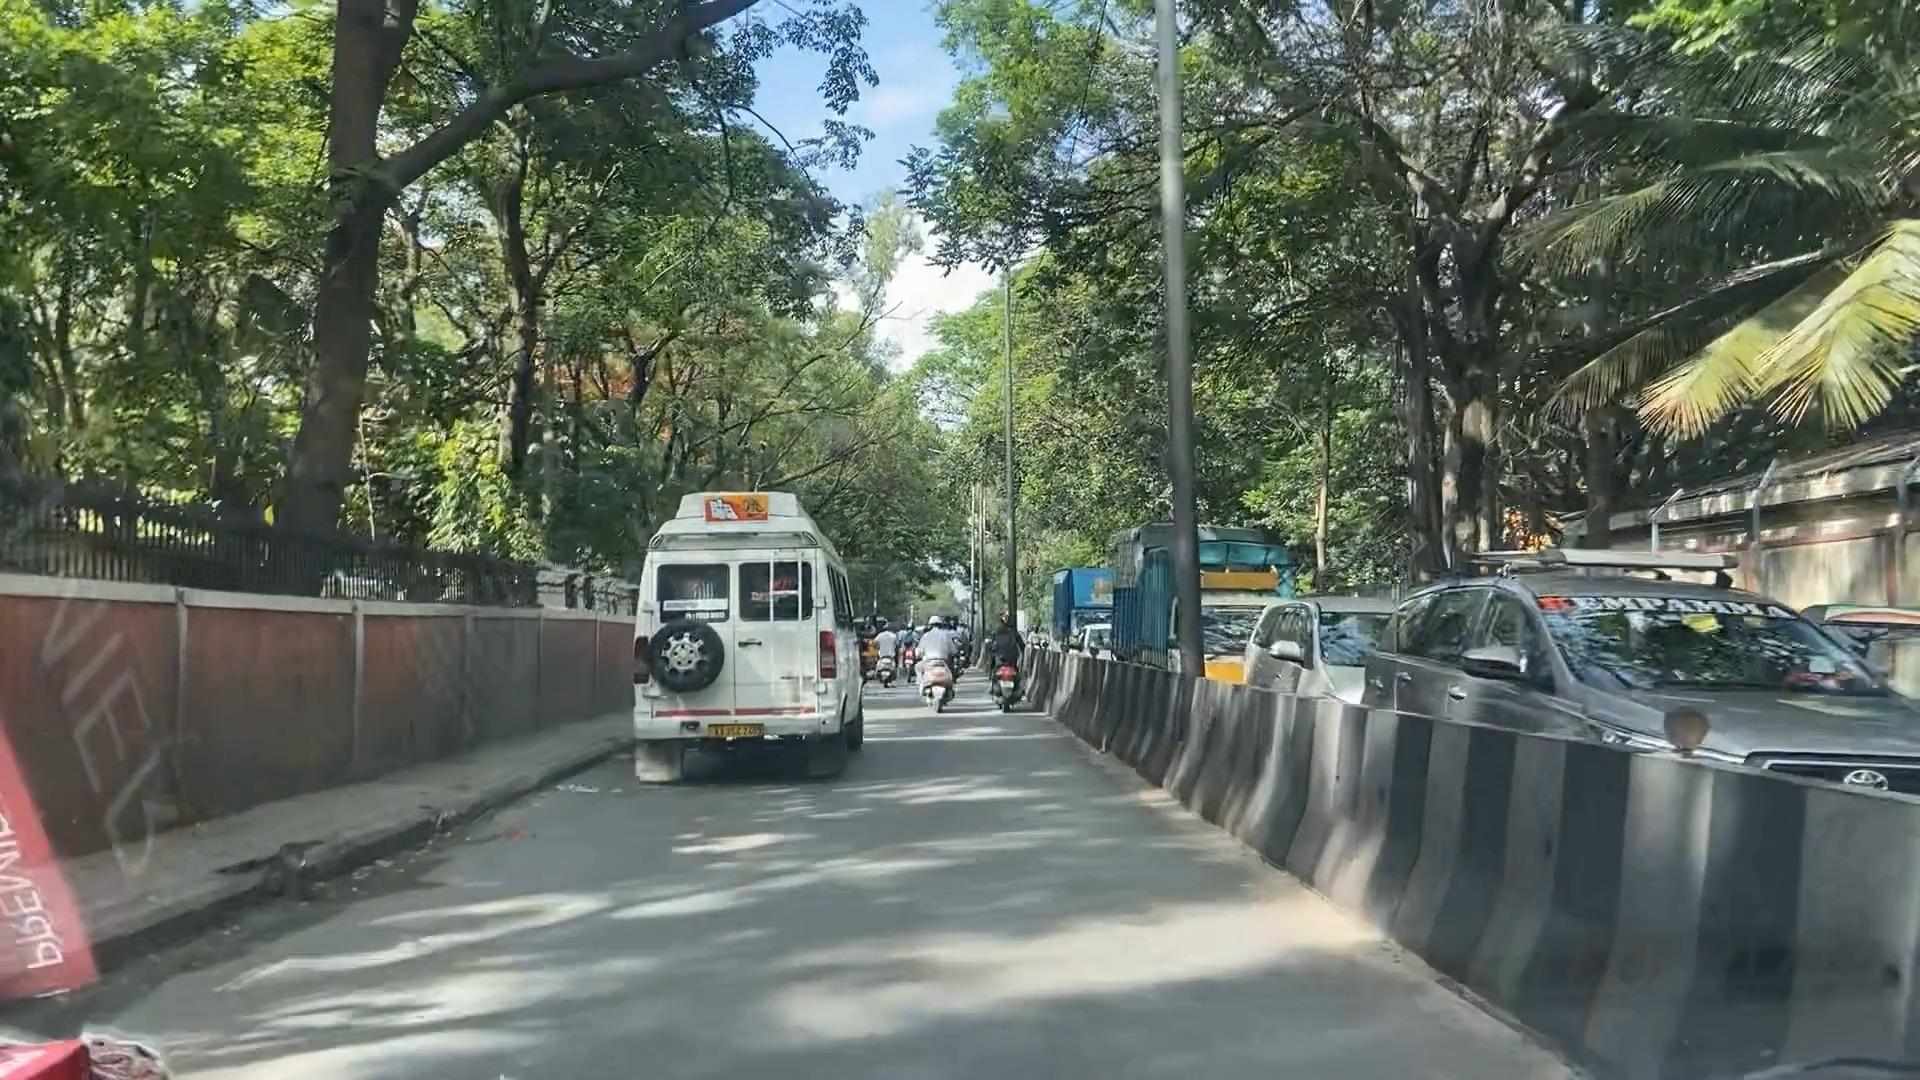HMV: (640, 487, 843, 785)
LMV: (982, 613, 1030, 716), (920, 611, 952, 703)
